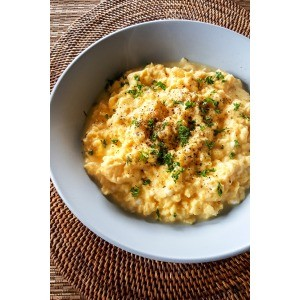egg_brain food: (103, 88, 222, 209)
